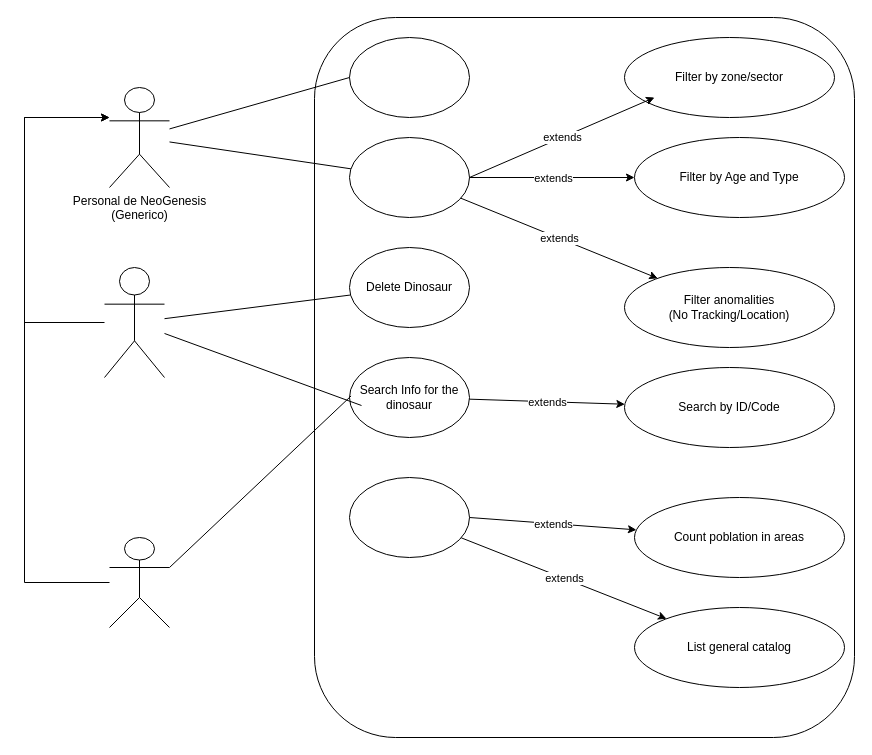
This 872x755 diagram has some shape labels left out. The shapes that lost their labels are listed below. From the top down, each one's box as (x1, y1, x2, y2) in pixels, then its label:
(348, 36, 470, 118): Register Dinosaurs
(348, 136, 470, 218): Update info for Dinosaur
(104, 266, 164, 378): Cientifico/Investigador
(348, 476, 470, 558): Generate static reports
(108, 536, 170, 628): Administrador del Parque
